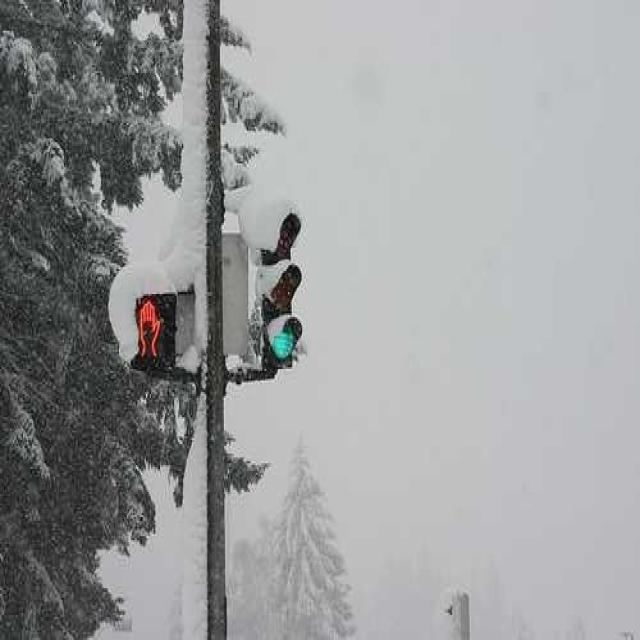Traffic Light -Green-: (247, 196, 316, 375)
